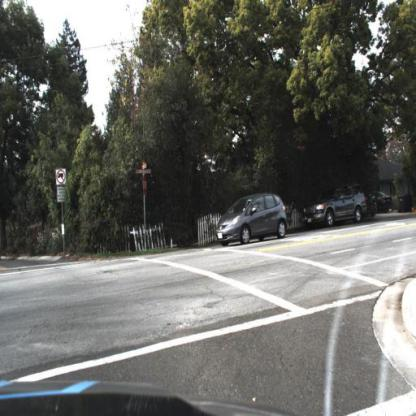car: (214, 192, 288, 247), (303, 181, 369, 231), (371, 190, 394, 216)
